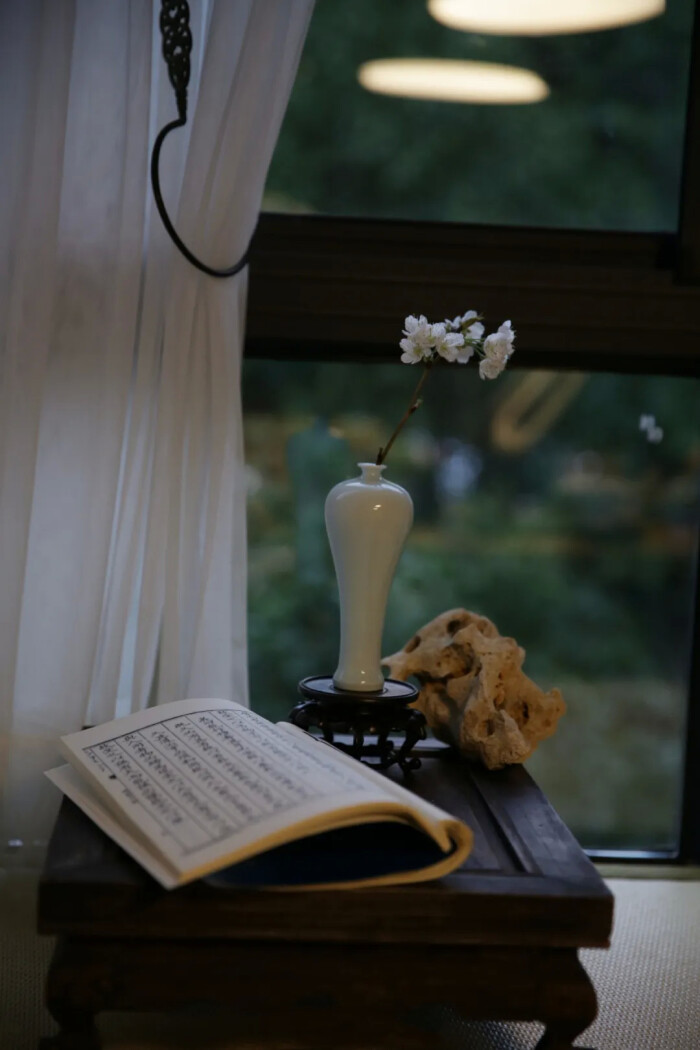book: (42, 681, 490, 924)
